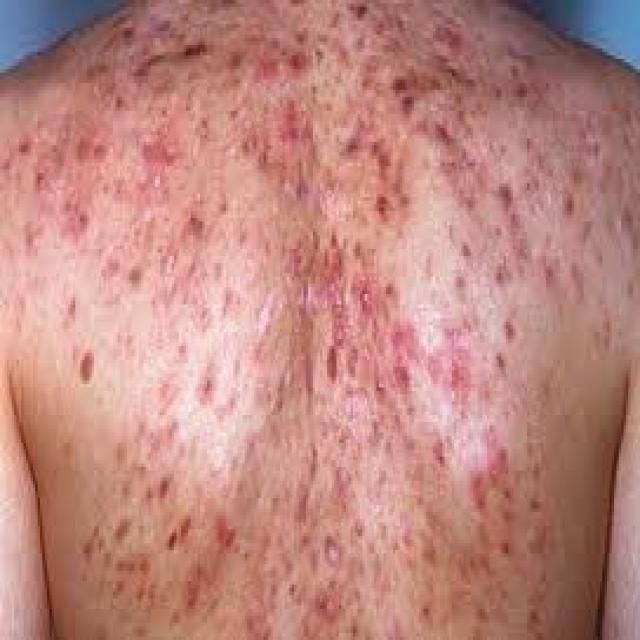acne: (292, 166, 412, 418), (108, 94, 214, 326), (461, 85, 562, 273), (293, 472, 358, 640), (421, 492, 513, 610), (128, 478, 220, 584)
